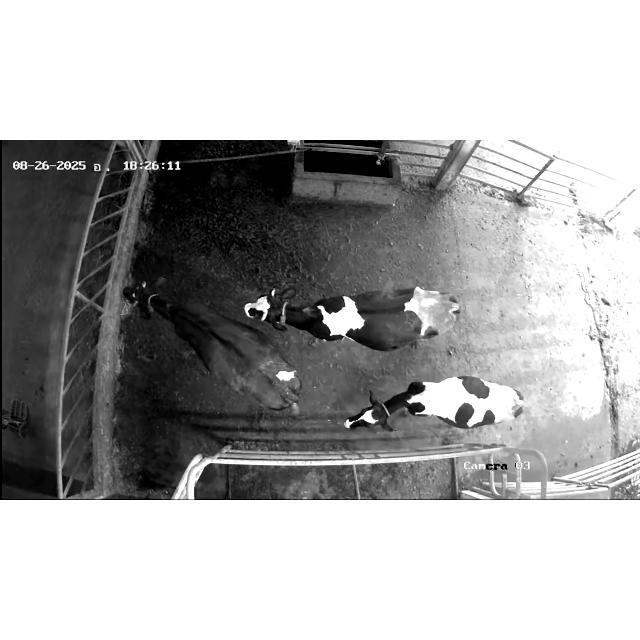stand: (120, 274, 310, 430), (238, 276, 472, 354), (333, 361, 532, 442)
